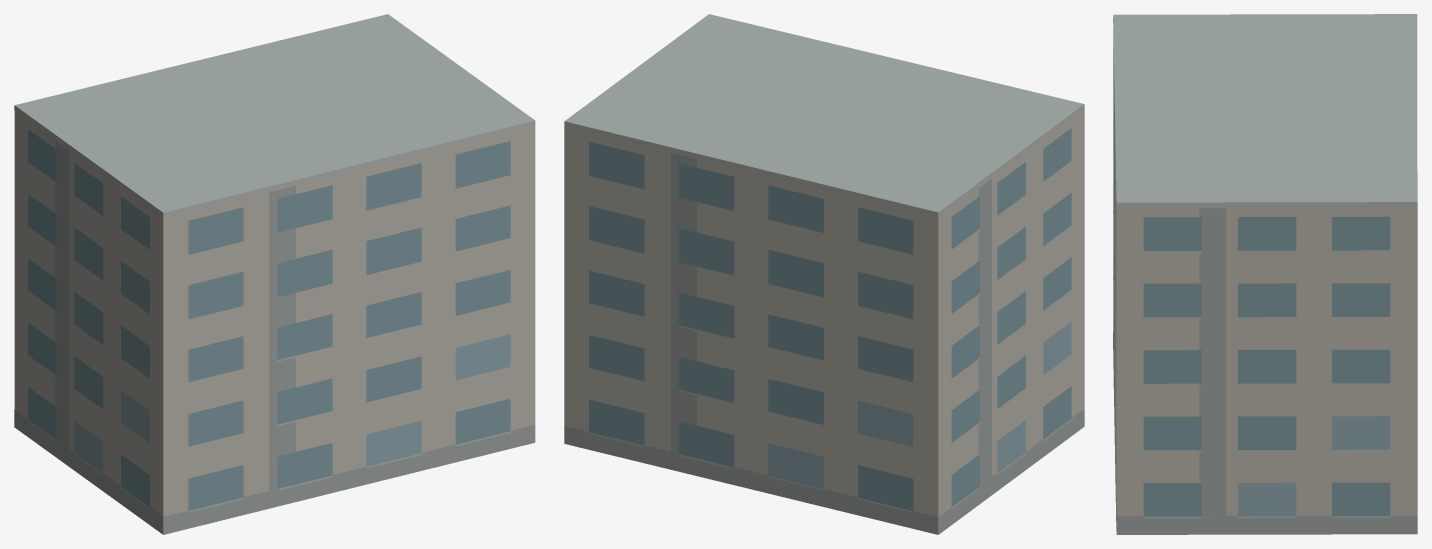
Rendered from survey-upis-32783449.glb.
The picture shows the model from 3 angles, left to right: view 1: azimuth 30°, elevation 25°; view 2: azimuth 150°, elevation 25°; view 3: azimuth 270°, elevation 25°; orthographic projection. The views are drawn at different scales.
Parts seen in each view (by area): view 1: survey-upis-32783449.tmp; view 2: survey-upis-32783449.tmp; view 3: survey-upis-32783449.tmp.
Part boxes in pixels (left/top/right/bottom): survey-upis-32783449.tmp: left=14, top=14, right=535, bottom=534; survey-upis-32783449.tmp: left=564, top=14, right=1084, bottom=534; survey-upis-32783449.tmp: left=1113, top=14, right=1417, bottom=534.
Size of the model in its own units: 16.83 by 13.8 by 11.47.
